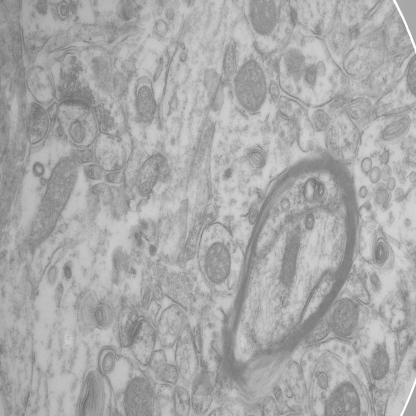mitochondria: (26, 152, 82, 254), (234, 52, 270, 117), (122, 372, 156, 416), (202, 238, 233, 286), (330, 294, 360, 340), (248, 0, 278, 38), (133, 81, 157, 121), (283, 46, 307, 84), (371, 342, 391, 381)
